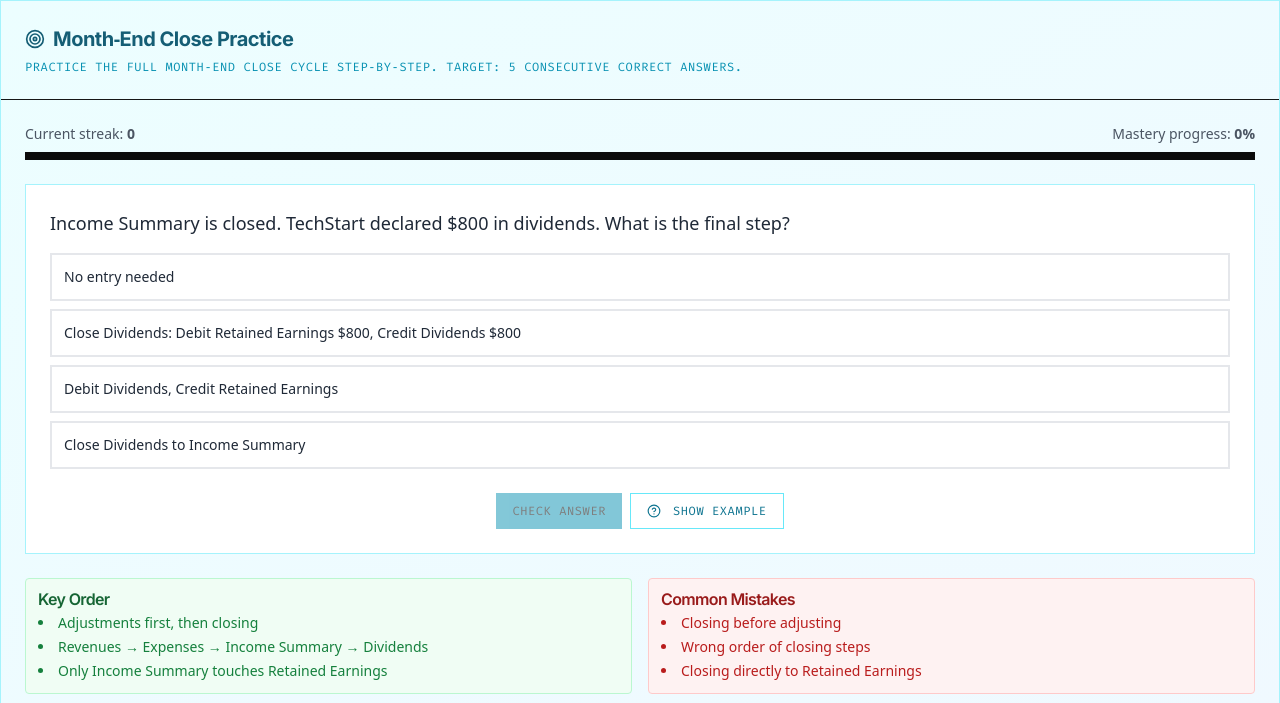
Test: MonthEndClosePractice › shows New Scenario button after answering
The width and height of the screenshot is (1280, 703).
Click the button "No entry needed": [119, 276] box [50, 253, 1230, 301]
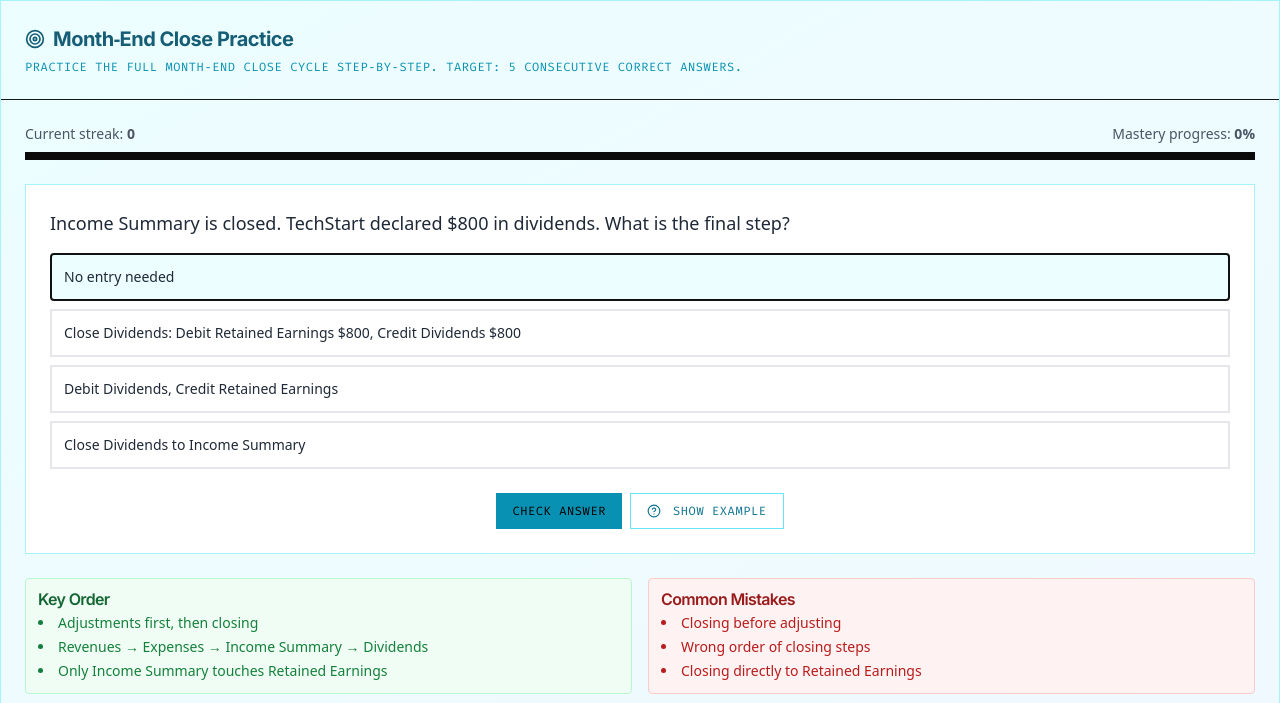
Click the button "Check Answer": [559, 511] box [496, 493, 622, 529]
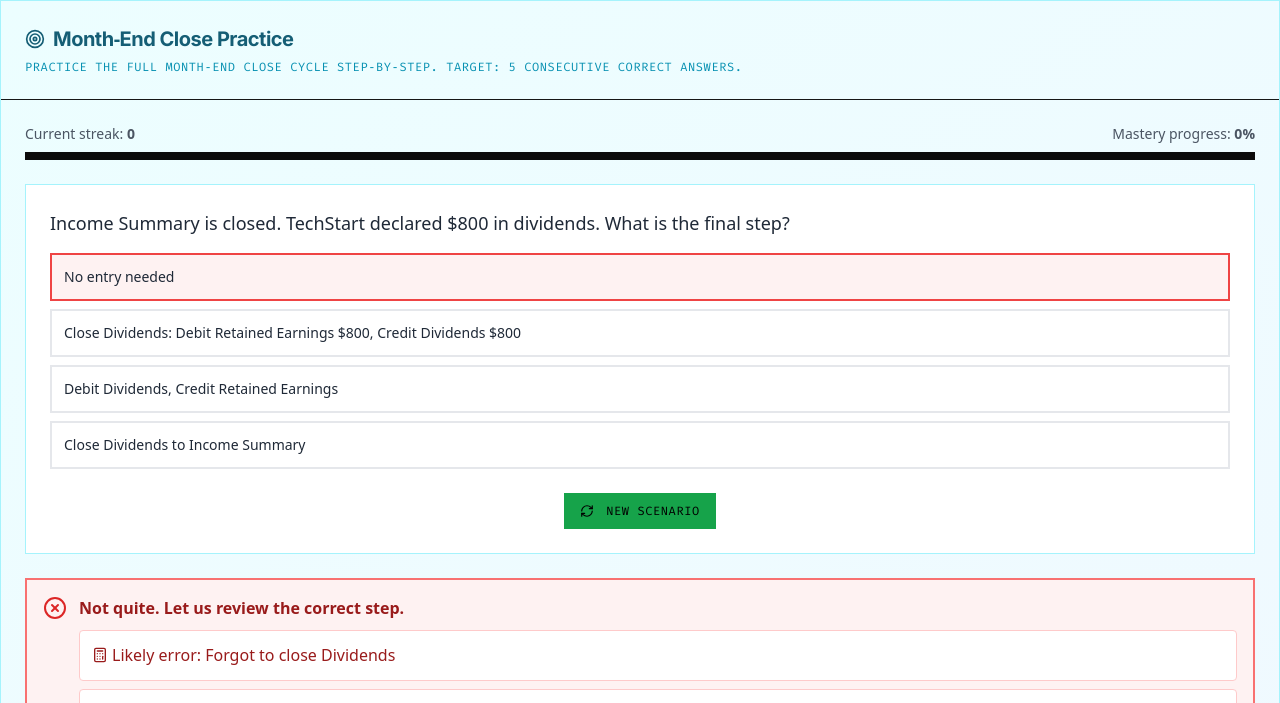
Expected: the button "New Scenario" is shown, [564, 493, 716, 529]
